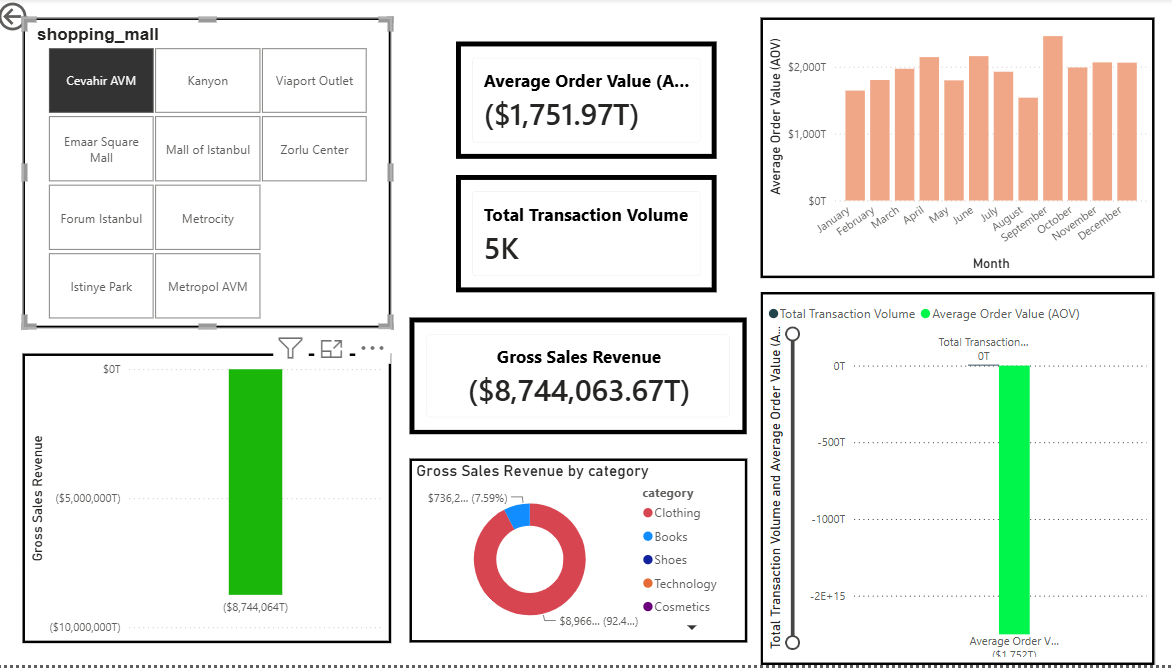

Layout of this report page (visuals, bound fields, positions):
{"tool":"powerbi","page":{"name":"Page 1","canvas":[1280,720],"ordinal":0},"visuals":[{"type":"clusteredColumnChart","fields":{"Y":["Fact_Sales.Gross Sales Revenue"]},"box":[30.2,408.2,398.7,311.8],"z":0},{"type":"clusteredColumnChart","fields":{"Y":["Fact_Sales.Total Transaction Volume","Fact_Sales.Average Order Value (AOV)"]},"box":[827.7,317.5,425.2,402.5],"z":1000},{"type":"clusteredColumnChart","fields":{"Y":["Fact_Sales.Average Order Value (AOV)"],"Category":["Fact_Sales.invoice_date.Variation.Date Hierarchy.Month"]},"box":[827.7,20.8,425.2,281.6],"z":2000},{"type":"actionButton","box":[0,0,100,40],"z":3000},{"type":"donutChart","fields":{"Category":["Dim_Product.category"],"Y":["Fact_Sales.Gross Sales Revenue"]},"box":[447.9,497,364.7,198.4],"z":4000},{"type":"slicer","fields":{"Values":["Dim_Mall.shopping_mall"]},"box":[30.2,47.2,398.7,334.5],"z":5000},{"type":"cardVisual","fields":{"Data":["Fact_Sales.Total Transaction Volume"]},"box":[498.9,190.9,281.6,126.6],"z":6000},{"type":"cardVisual","fields":{"Data":["Fact_Sales.Average Order Value (AOV)"]},"box":[498.9,47.2,281.6,126.6],"z":7000},{"type":"cardVisual","fields":{"Data":["Fact_Sales.Gross Sales Revenue"]},"box":[498.9,345.8,281.6,126.6],"z":8000}]}

Visuals, with their boxes in screenshot pixels (x1, y1, x2, y2):
clusteredColumnChart - Fact_Sales.Gross Sales Revenue: bbox=(13, 376, 386, 667)
clusteredColumnChart - Fact_Sales.Total Transaction Volume x Fact_Sales.Average Order Value (AOV): bbox=(760, 291, 1158, 667)
clusteredColumnChart - Fact_Sales.Average Order Value (AOV) x Fact_Sales.invoice_date.Variation.Date Hierarchy.Month: bbox=(760, 13, 1158, 277)
actionButton: bbox=(0, 0, 78, 31)
donutChart - Dim_Product.category x Fact_Sales.Gross Sales Revenue: bbox=(404, 459, 745, 645)
slicer - Dim_Mall.shopping_mall: bbox=(13, 38, 386, 351)
cardVisual - Fact_Sales.Total Transaction Volume: bbox=(452, 173, 715, 291)
cardVisual - Fact_Sales.Average Order Value (AOV): bbox=(452, 38, 715, 157)
cardVisual - Fact_Sales.Gross Sales Revenue: bbox=(452, 318, 715, 436)
